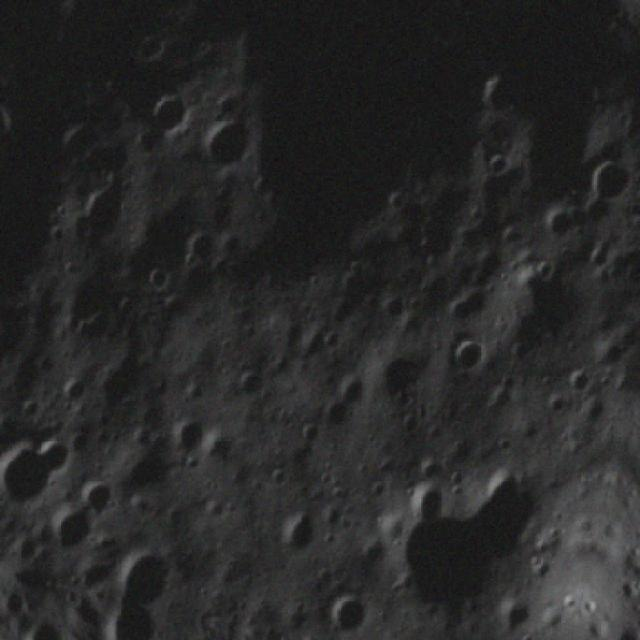crater: (356, 434, 575, 640), (0, 418, 82, 522), (84, 333, 168, 429), (110, 534, 196, 615), (184, 100, 265, 180), (362, 333, 442, 413), (264, 496, 342, 572), (39, 500, 113, 568), (45, 109, 112, 182), (575, 143, 640, 215), (315, 580, 391, 640), (436, 274, 502, 341), (135, 79, 199, 147), (396, 472, 459, 533), (532, 195, 588, 251), (443, 329, 494, 385), (160, 412, 211, 466), (78, 474, 125, 520), (229, 359, 274, 406), (128, 24, 172, 70), (474, 143, 518, 186), (532, 383, 573, 426), (562, 360, 600, 402)
